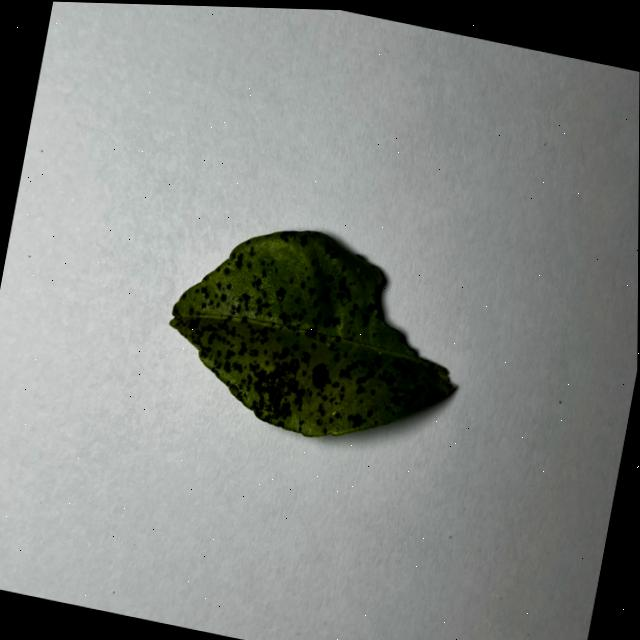sooty_mold: (169, 230, 452, 435)
